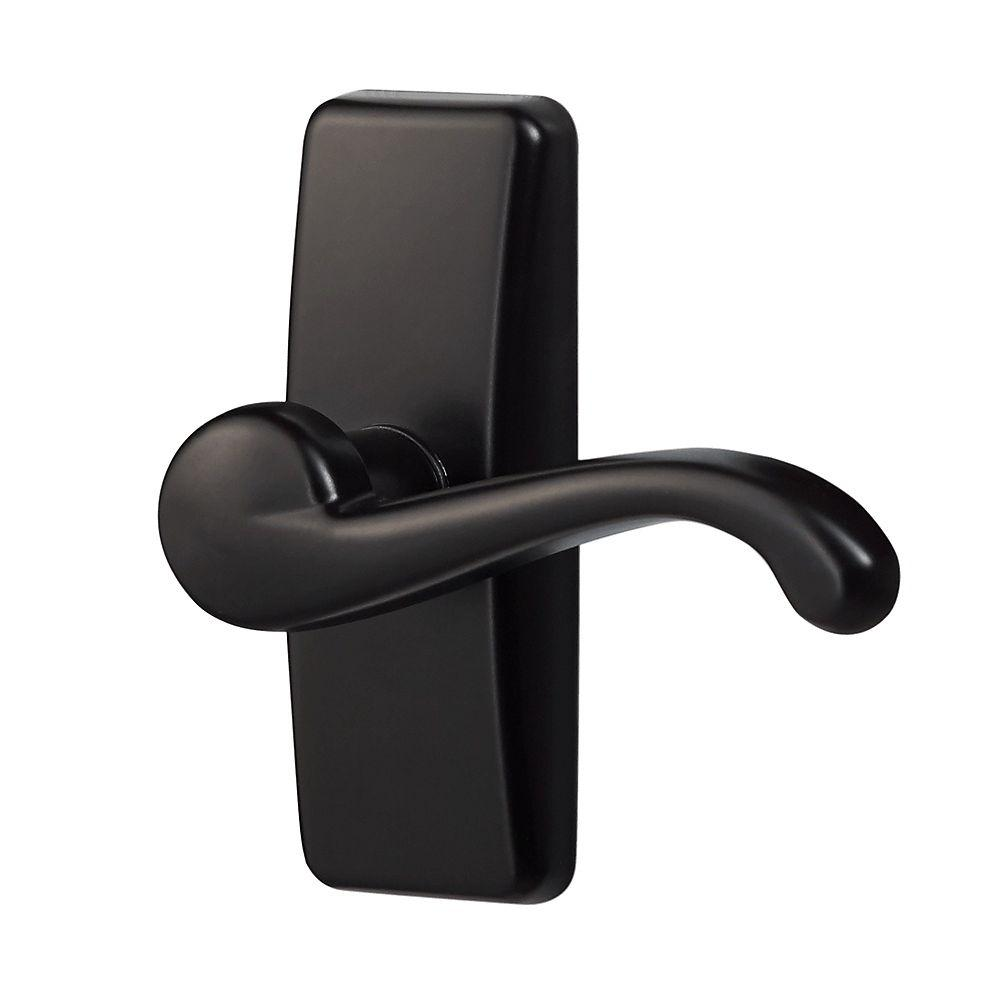doorhandle: (137, 378, 906, 723)
